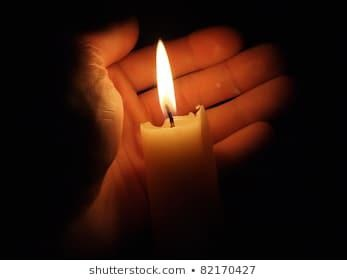fire: (152, 35, 175, 116)
